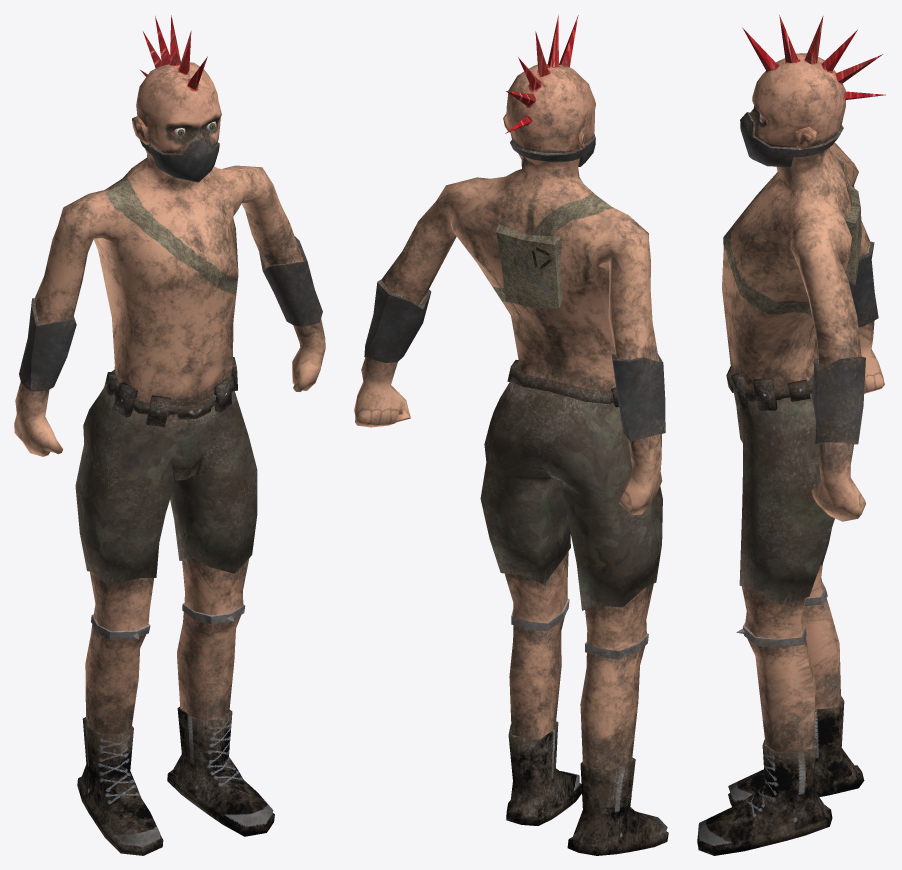
The model's file is Anim_ganar_1_npc2.0044.obj.
The picture shows the model from 3 angles, left to right: view 1: azimuth 30°, elevation 25°; view 2: azimuth 150°, elevation 25°; view 3: azimuth 270°, elevation 25°; orthographic projection. The views are drawn at different scales.
Visible parts, largest first — view 1: polySurface1; view 2: polySurface1; view 3: polySurface1.
Part boxes in pixels (<box>): polySurface1: <box>14,15,325,855</box>; polySurface1: <box>354,14,668,855</box>; polySurface1: <box>697,15,885,855</box>.
Bounding box in the file's own units: 4.09 × 10.39 × 2.17.
